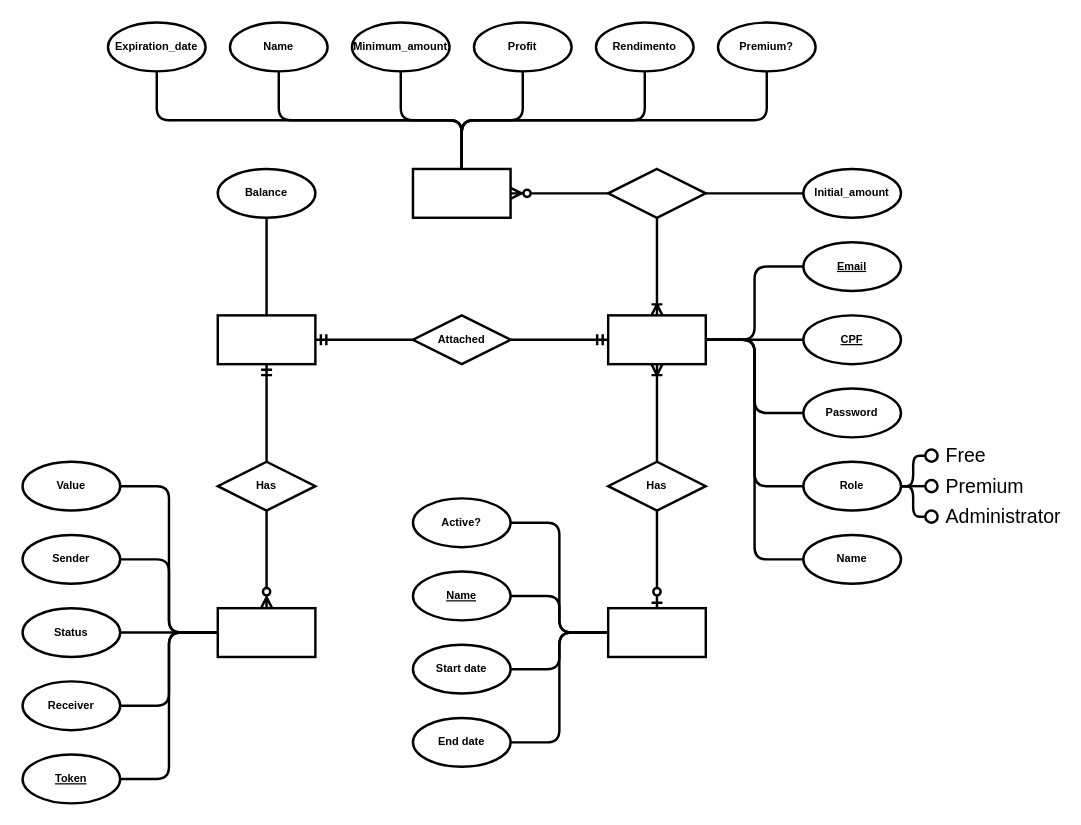
The diagram is 1081 pixels wide and 825 high, and some of its shapes have lost their labels. Each missing label, with the box of its shape:
Account: (216, 314, 316, 365)
Classroom: (606, 606, 706, 658)
Invest: (606, 167, 706, 218)
Investiment: (411, 167, 511, 218)
Transaction: (216, 606, 316, 658)
User: (606, 314, 706, 365)
